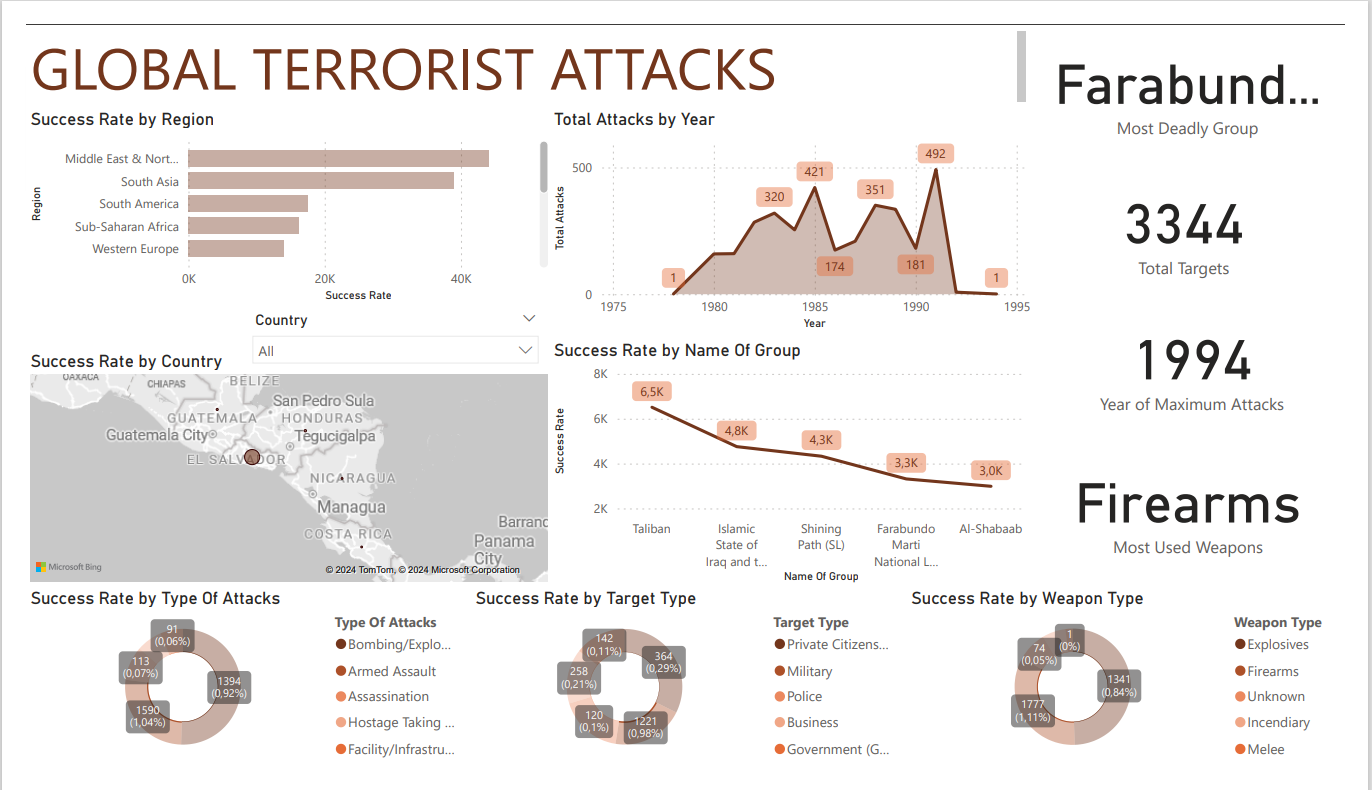

The page's visual inventory and layout, read from the dashboard file:
{"tool":"powerbi","page":{"name":"Page 1","canvas":[1280,720],"ordinal":0},"visuals":[{"type":"donutChart","fields":{"Category":["Global Terrorism Attack Dataset.Type Of Attacks"],"Y":["Sum(Global Terrorism Attack Dataset.Success Rate)"]},"box":[0,545.7,432.3,174.9],"z":0},{"type":"donutChart","fields":{"Category":["Global Terrorism Attack Dataset.Target Type"],"Y":["Sum(Global Terrorism Attack Dataset.Success Rate)"]},"box":[432.3,545.7,422.6,174.9],"z":1000},{"type":"donutChart","fields":{"Category":["Global Terrorism Attack Dataset.Weapon Type"],"Y":["Sum(Global Terrorism Attack Dataset.Success Rate)"]},"box":[855,545.7,425.9,174.9],"z":2000},{"type":"map","fields":{"Category":["Global Terrorism Attack Dataset.Country"],"Size":["Sum(Global Terrorism Attack Dataset.Success Rate)"]},"box":[0,315.7,511.7,229.9],"z":3000},{"type":"barChart","fields":{"Category":["Global Terrorism Attack Dataset.Region"],"Y":["Sum(Global Terrorism Attack Dataset.Success Rate)"]},"box":[0,81,511.7,192.7],"z":3001},{"type":"lineChart","fields":{"Y":["Sum(Global Terrorism Attack Dataset.Success Rate)"],"Category":["Global Terrorism Attack Dataset.Name Of Group"]},"box":[508.4,306,471.2,239.6],"z":3002},{"type":"areaChart","fields":{"Category":["Global Terrorism Attack Dataset.Year"],"Y":["CountNonNull(Global Terrorism Attack Dataset.Year)"]},"box":[508.4,81,471.2,220.2],"z":3003},{"type":"slicer","fields":{"Values":["Global Terrorism Attack Dataset.Country"]},"box":[210.5,273.6,297.9,63.1],"z":3004},{"type":"card","fields":{"Values":["Min(Global Terrorism Attack Dataset.Name Of Group)"]},"box":[979.6,0,296.3,123.1],"z":3005},{"type":"card","fields":{"Values":["CountNonNull(Global Terrorism Attack Dataset.Target Type)"]},"box":[976.4,132.8,296.3,127.9],"z":3006},{"type":"card","fields":{"Values":["Max(Global Terrorism Attack Dataset.Year)"]},"box":[984.5,260.7,296.3,136],"z":3007},{"type":"card","fields":{"Values":["Min(Global Terrorism Attack Dataset.Weapon Type)"]},"box":[987.7,401.6,281.7,132.8],"z":3008},{"type":"textbox","box":[0,0,976.4,81],"z":3009}]}

Visuals, with their boxes in screenshot pixels (x1, y1, x2, y2), scaled from the page's 1280x720 canvas onto the 1372x790 screenshot:
donutChart - Global Terrorism Attack Dataset.Type Of Attacks x Sum(Global Terrorism Attack Dataset.Success Rate): 0 599 463 789
donutChart - Global Terrorism Attack Dataset.Target Type x Sum(Global Terrorism Attack Dataset.Success Rate): 463 599 916 789
donutChart - Global Terrorism Attack Dataset.Weapon Type x Sum(Global Terrorism Attack Dataset.Success Rate): 916 599 1371 789
map - Global Terrorism Attack Dataset.Country x Sum(Global Terrorism Attack Dataset.Success Rate): 0 346 548 599
barChart - Global Terrorism Attack Dataset.Region x Sum(Global Terrorism Attack Dataset.Success Rate): 0 89 548 300
lineChart - Sum(Global Terrorism Attack Dataset.Success Rate) x Global Terrorism Attack Dataset.Name Of Group: 545 336 1050 599
areaChart - Global Terrorism Attack Dataset.Year x CountNonNull(Global Terrorism Attack Dataset.Year): 545 89 1050 330
slicer - Global Terrorism Attack Dataset.Country: 226 300 545 369
card - Min(Global Terrorism Attack Dataset.Name Of Group): 1050 0 1368 135
card - CountNonNull(Global Terrorism Attack Dataset.Target Type): 1047 146 1364 286
card - Max(Global Terrorism Attack Dataset.Year): 1055 286 1371 435
card - Min(Global Terrorism Attack Dataset.Weapon Type): 1059 441 1361 586
textbox: 0 0 1047 89
